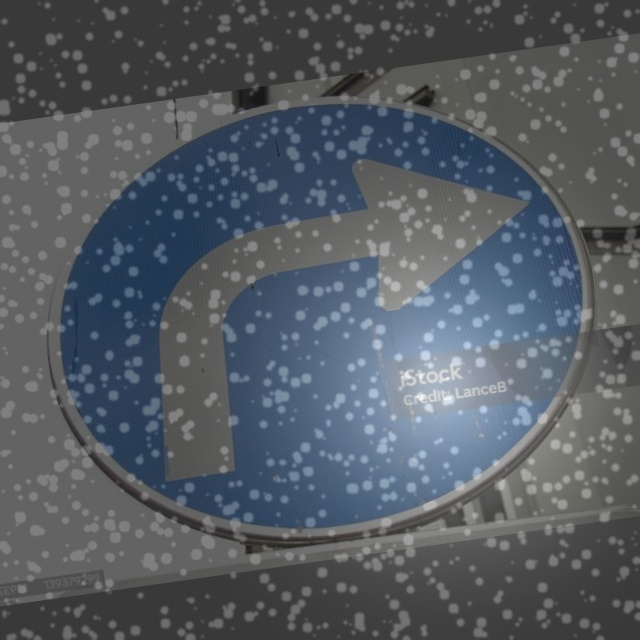Compulsory_Turn_Right_Ahead: (31, 66, 603, 553)
